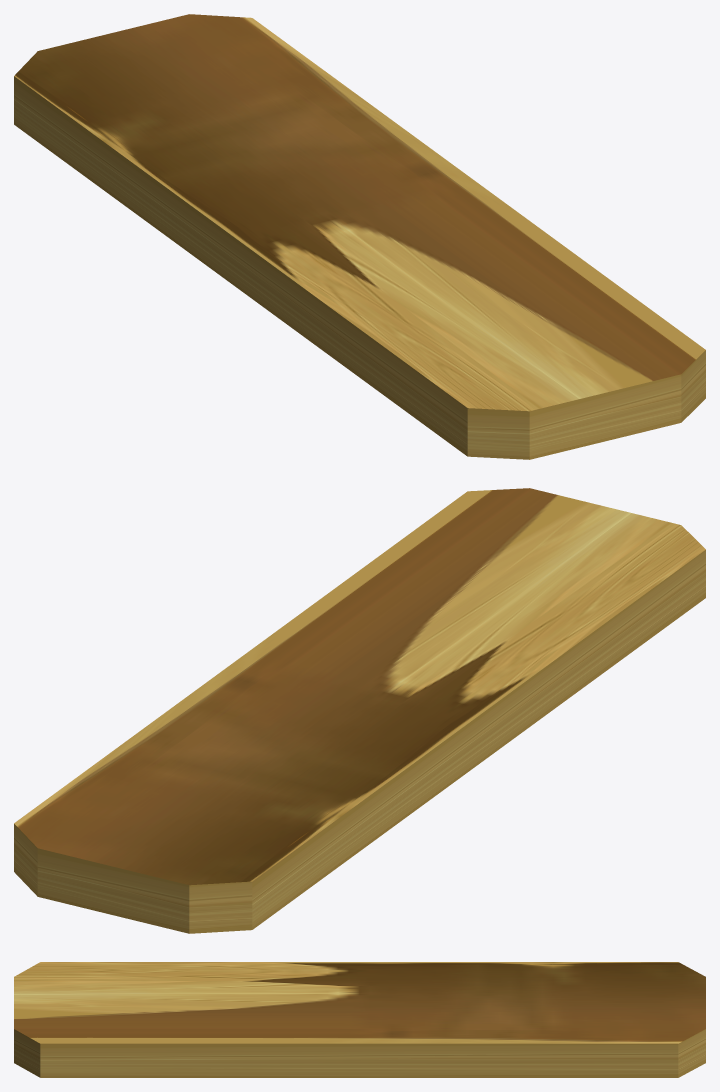
Rendered from chuansong02.fbx.
3 renders of one model, top to bottom at view 1: azimuth 30°, elevation 25°; view 2: azimuth 150°, elevation 25°; view 3: azimuth 270°, elevation 25°, orthographic. The views are drawn at different scales.
Visible parts, largest first — view 1: chuansong02; view 2: chuansong02; view 3: chuansong02.
Boxes of the visible parts, box(x1,y1,x2,y2) form: chuansong02: box(14, 14, 705, 459); chuansong02: box(14, 488, 705, 933); chuansong02: box(14, 962, 705, 1077).
Bounding box in the file's own units: 5.23 × 1.02 × 18.7.
